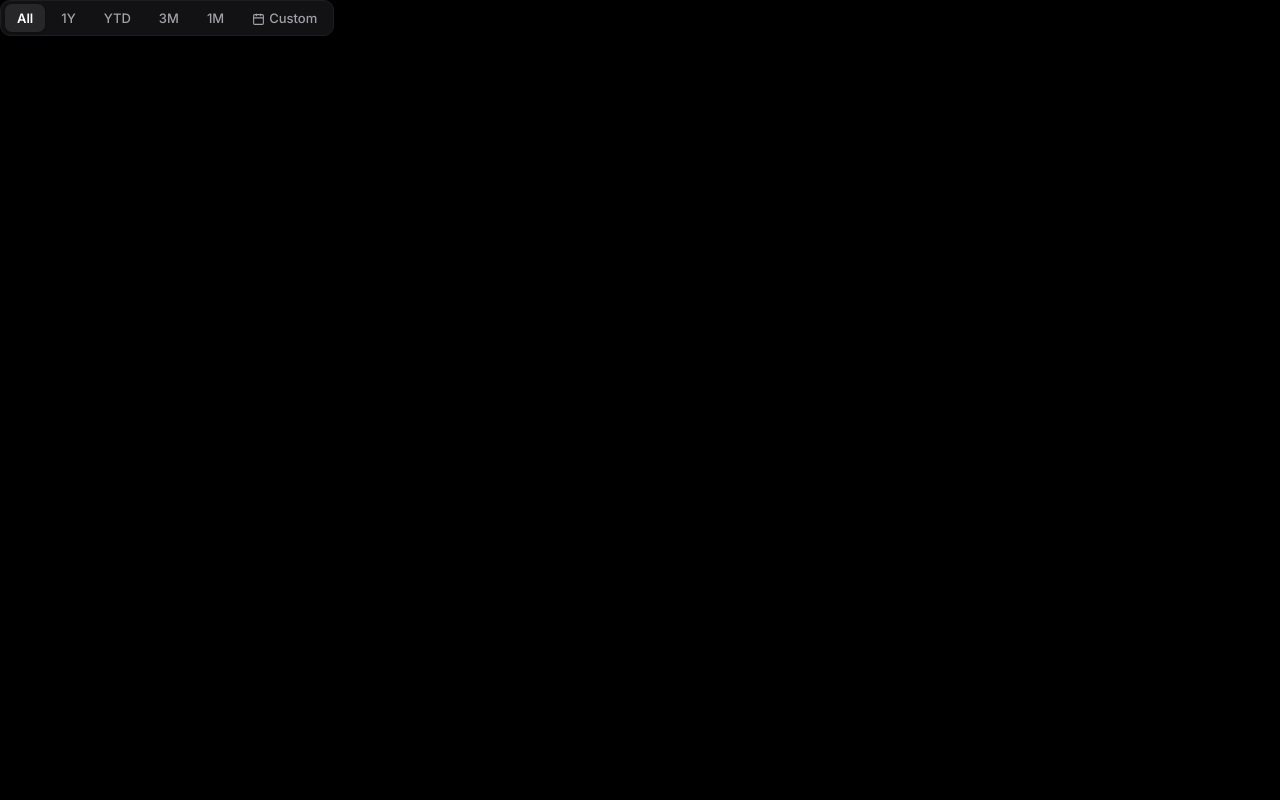
ReportingPeriodBar Component › should show error message if From date is after To date
Click the button "Custom" at (285, 18), box [240,4,329,32]
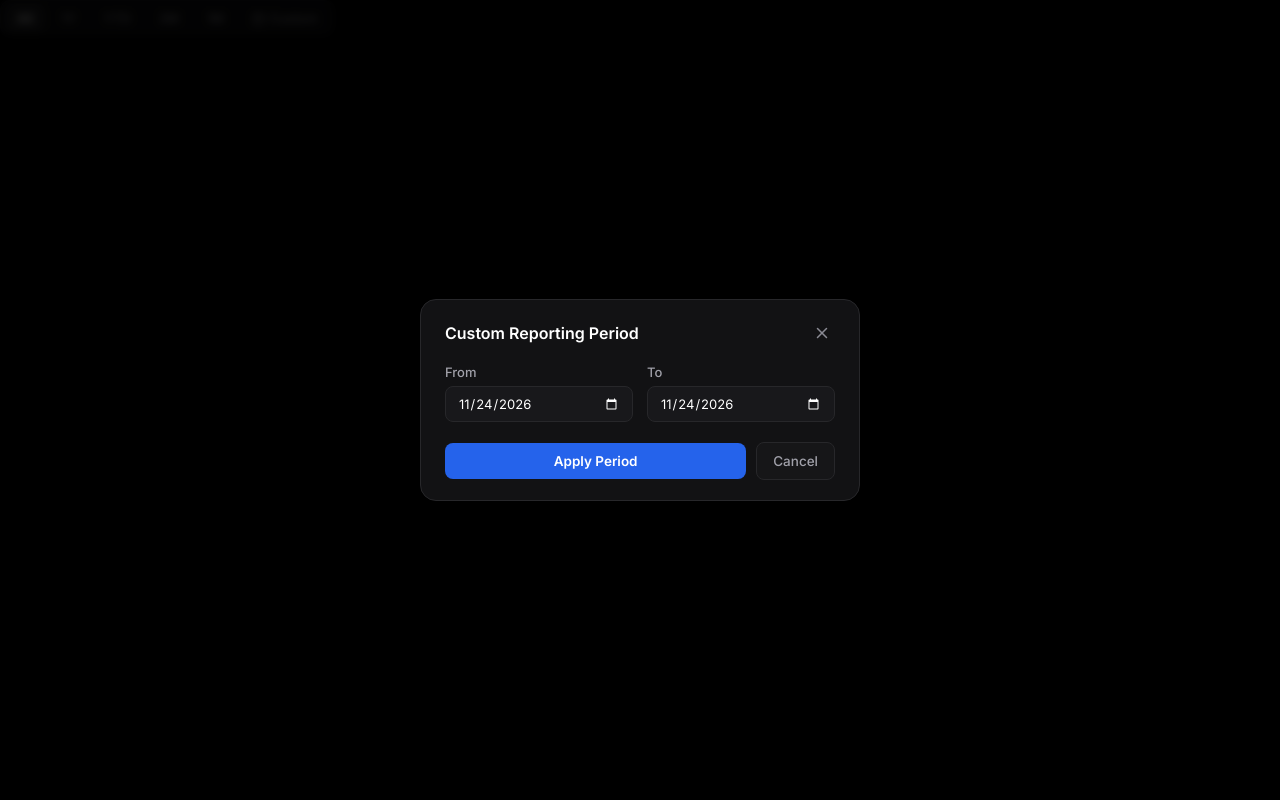
Type "2025-01-01" into the date field labelled "From" at (539, 404), box [445,386,633,422]
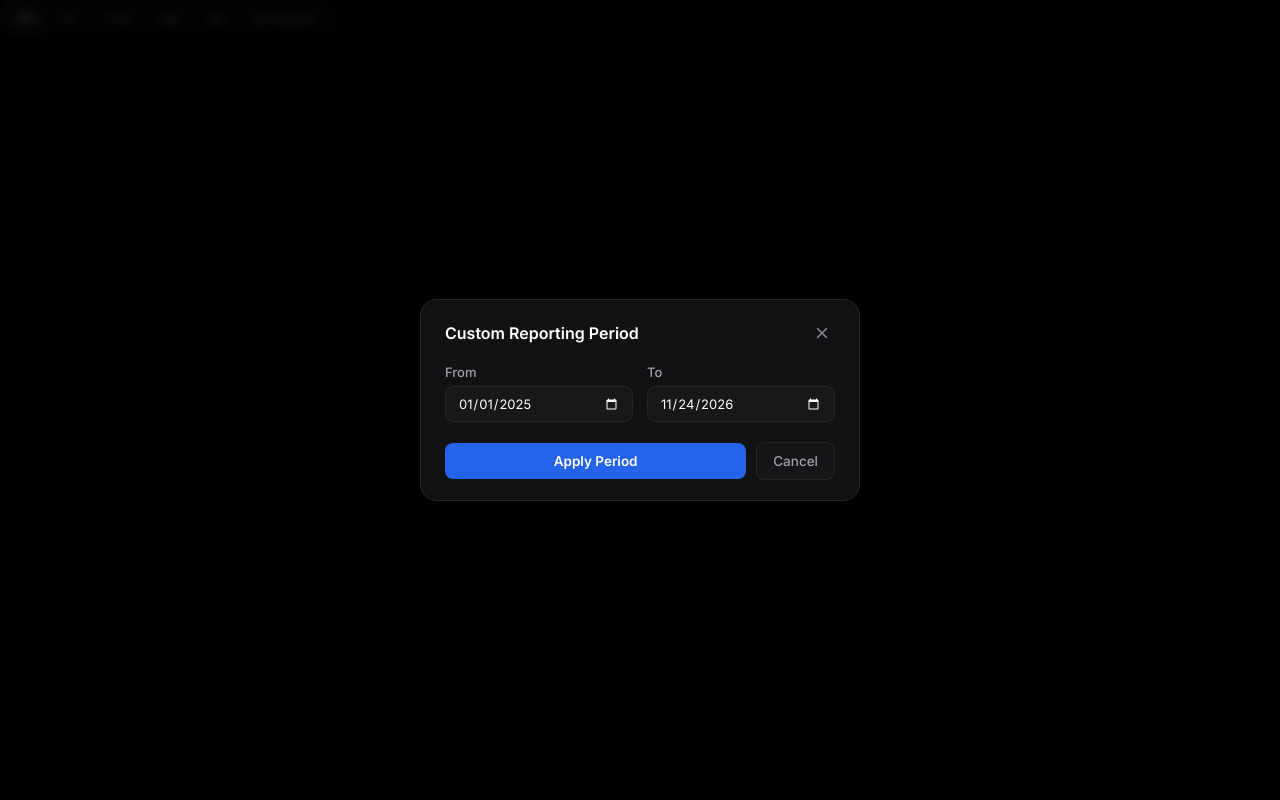
Type "2024-01-01" into the date field labelled "To" at (741, 404), box [647,386,835,422]
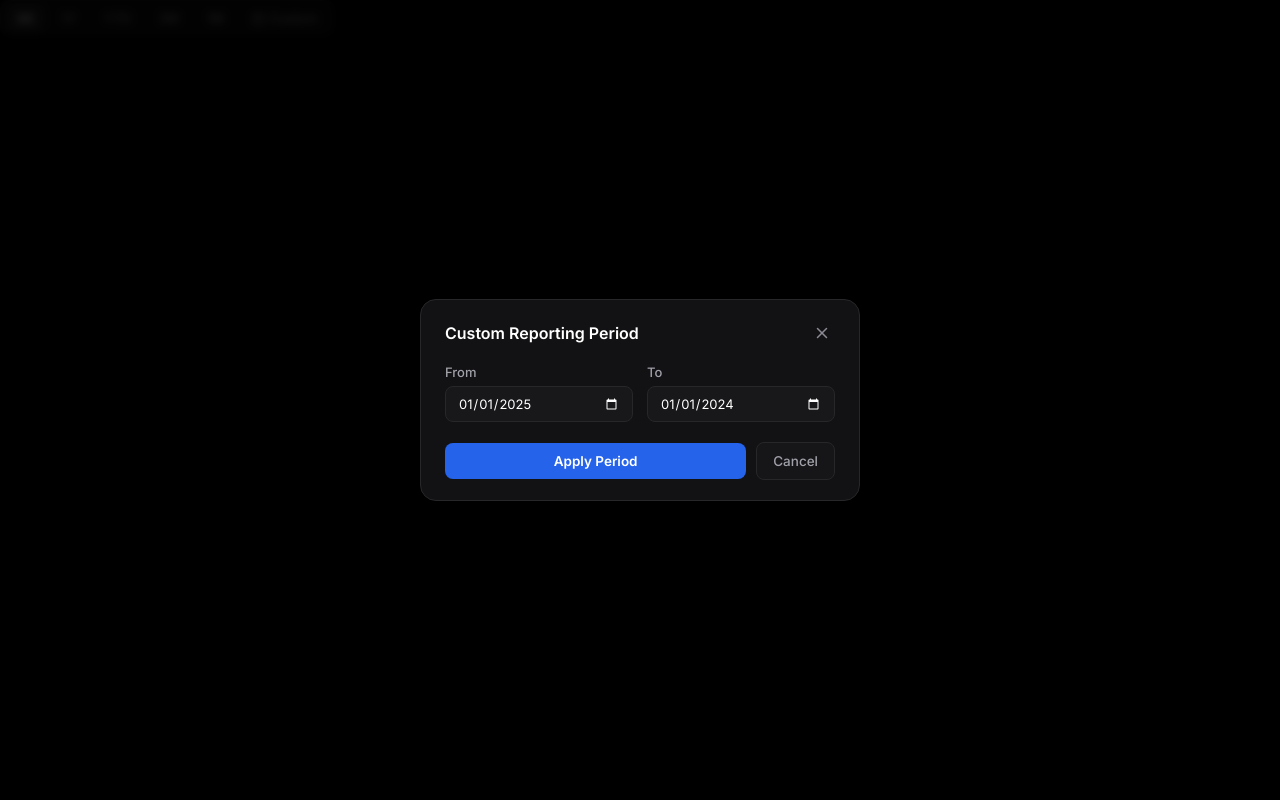
Click the button "Apply Period" at (596, 461), box [445,443,746,479]
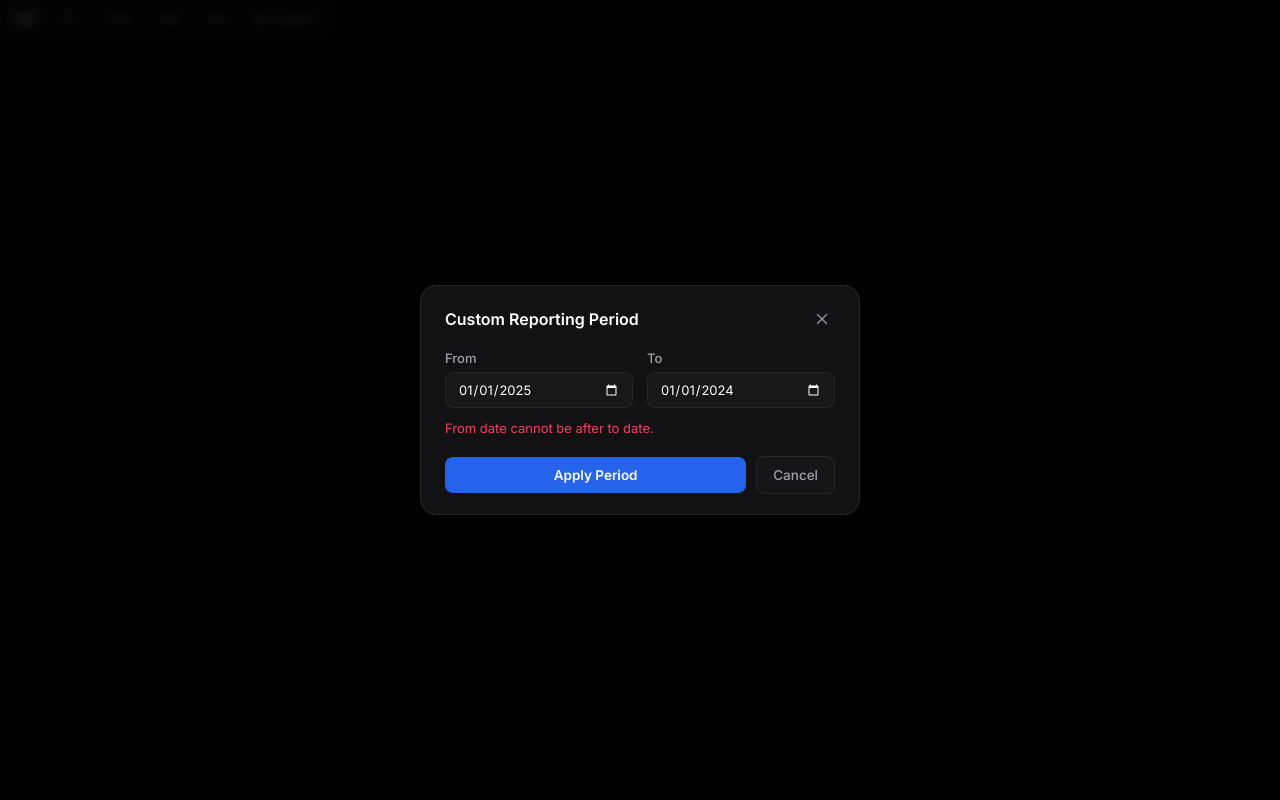
Result: the text "From date cannot be after to date." is shown at [445,420,654,436]
